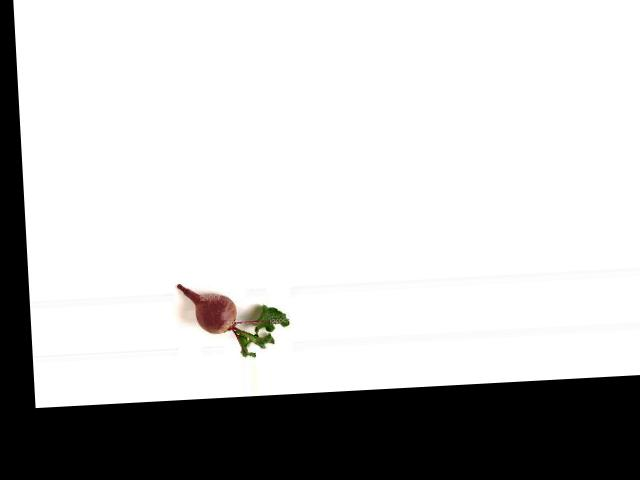beet: (177, 278, 291, 361)
